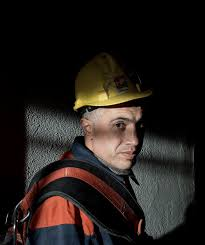Person_wearing_helmet: (64, 49, 159, 133)
